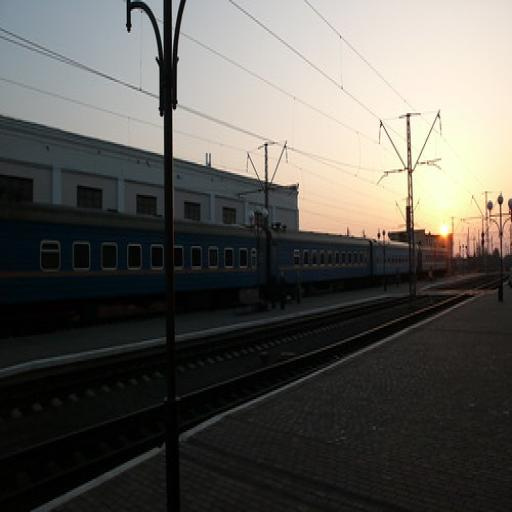platform_edge: (39, 389, 289, 512), (325, 303, 486, 382)
